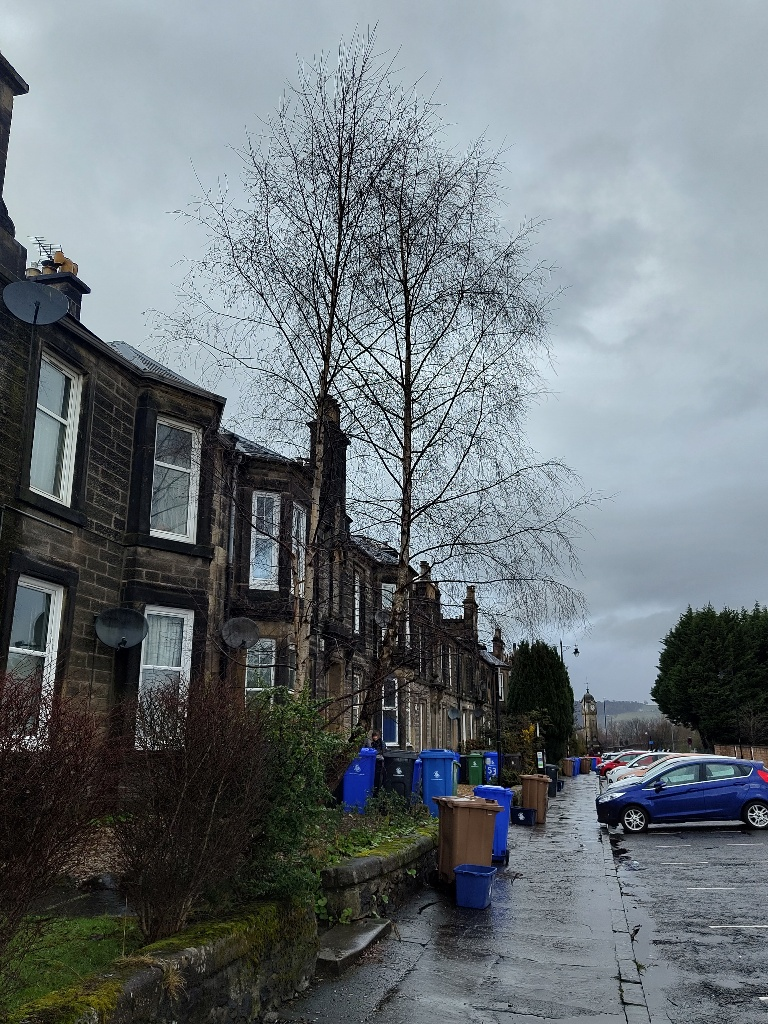Tree: (128, 18, 621, 813), (647, 599, 768, 747), (504, 636, 579, 764)
